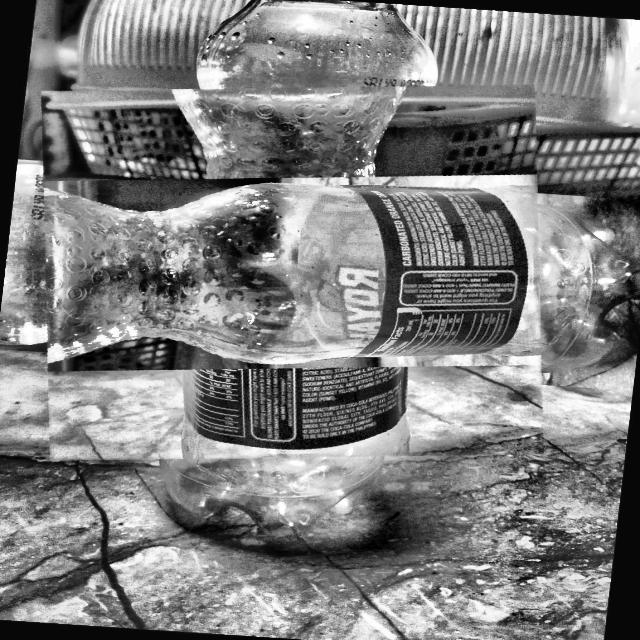Plastic-Bottle: (11, 62, 573, 483)
